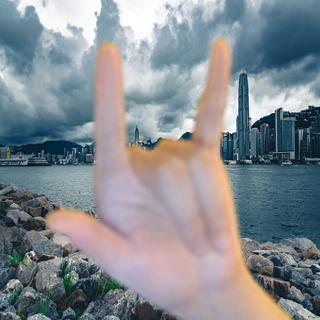ILY: (40, 33, 256, 307)
